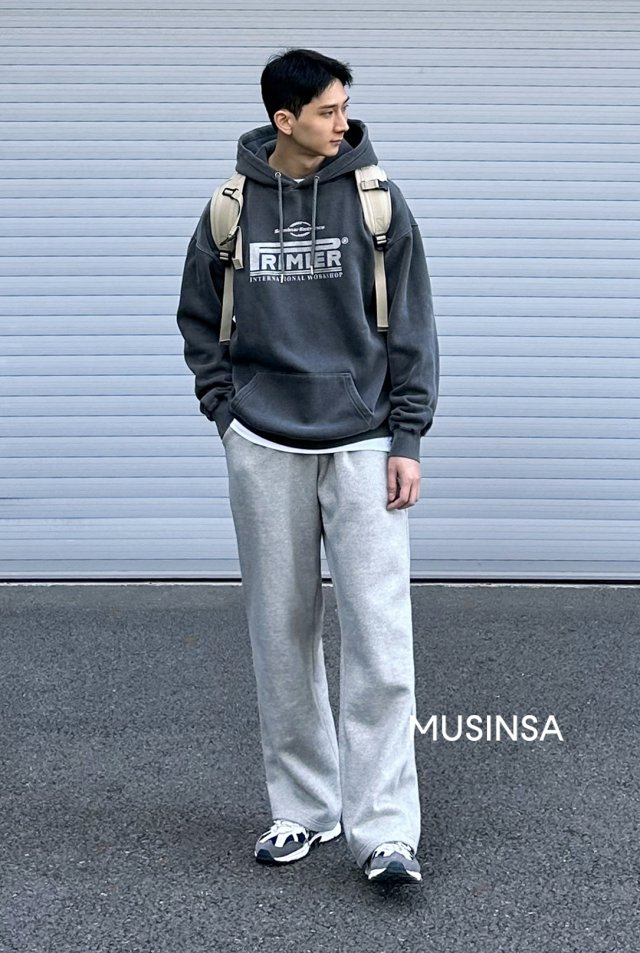Backpack: (212, 167, 395, 245)
Hoodie: (182, 117, 448, 460)
Shoes: (240, 809, 440, 896)
Training pants: (223, 409, 452, 848)
